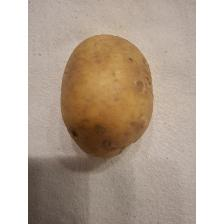Kartoffel: (58, 32, 158, 162)
